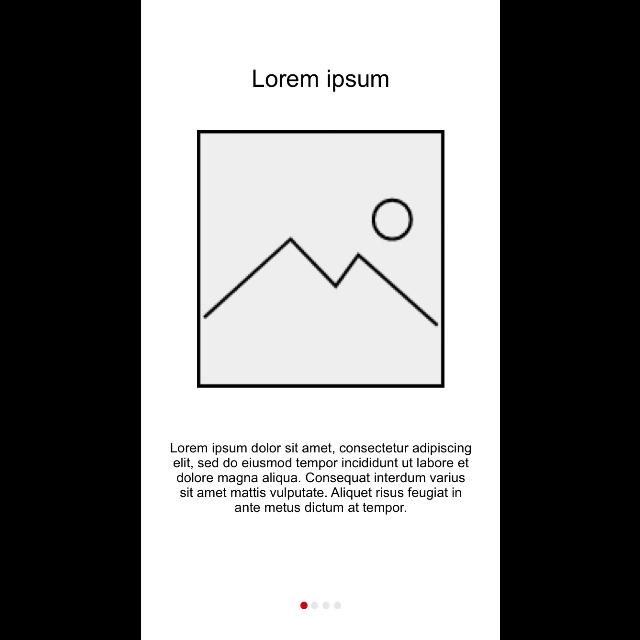image: (197, 130, 445, 388)
pageindicator: (300, 602, 342, 610)
text: (170, 442, 472, 516), (252, 70, 388, 92)
